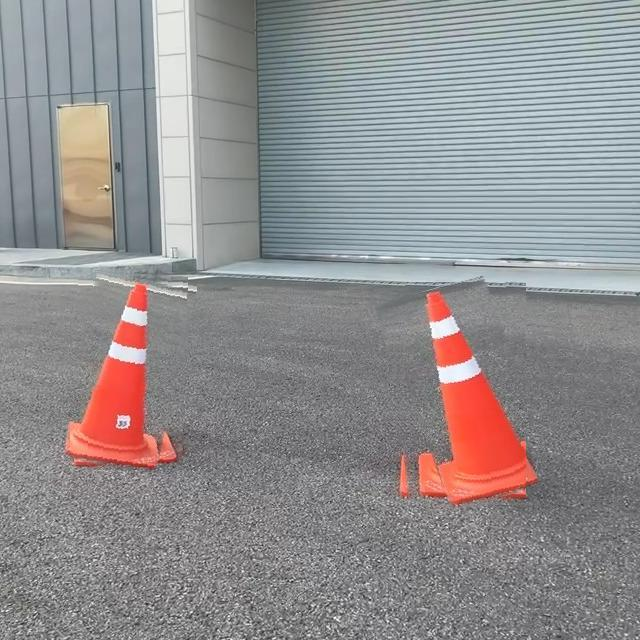fallen_object: (357, 273, 550, 534), (49, 295, 222, 480)
